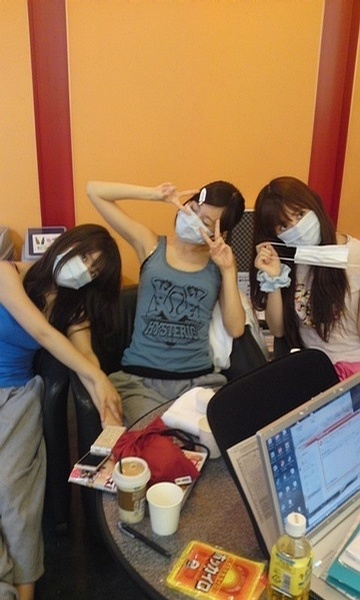face_mask: (54, 238, 106, 292), (176, 197, 227, 246), (276, 203, 324, 249)
